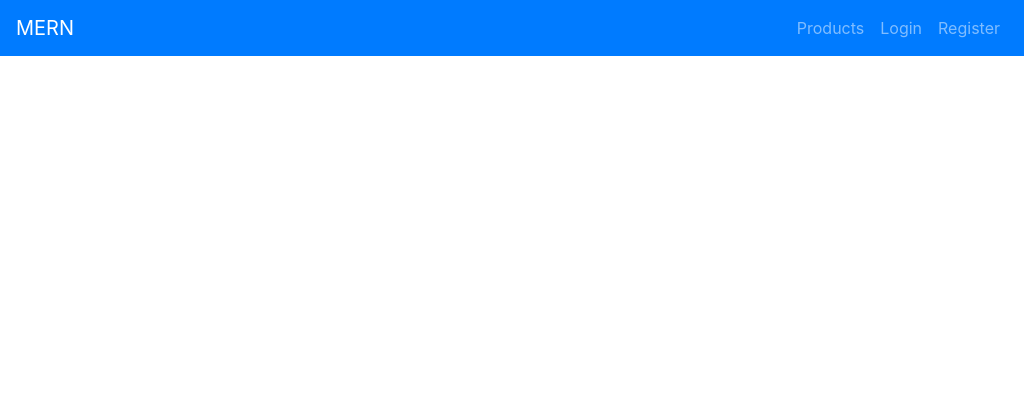
Test: A non registered user interacting with the site › redirects the user to the login page after they register
The image size is (1024, 409).
Click the link "Register" at (969, 28), box [938,18,1000,38]
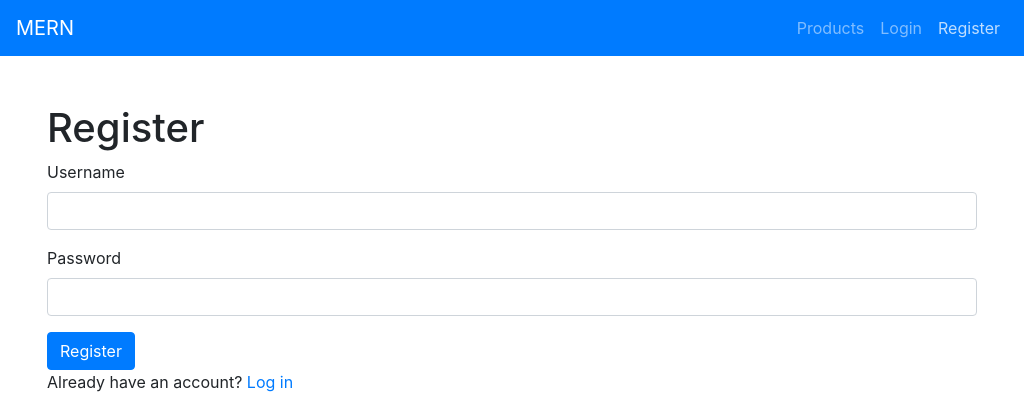
Type "cypress" into the field labelled "Username" at (512, 211), box [47,192,977,230]
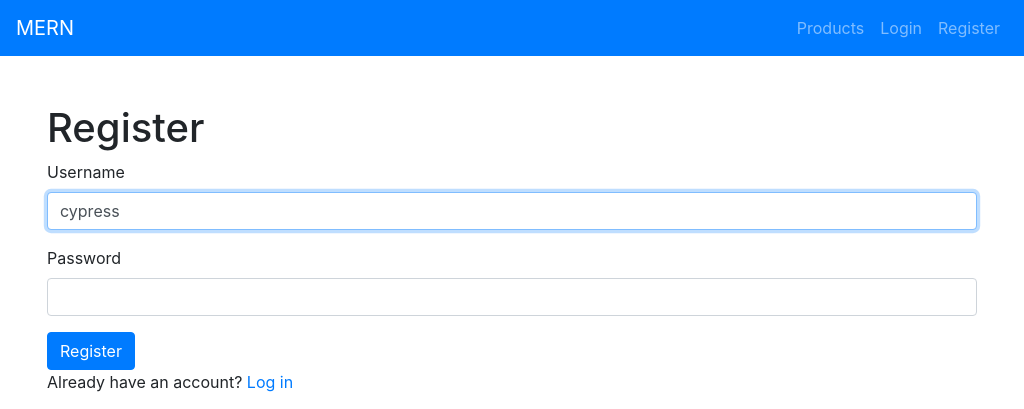
Type "cypress" into the password field labelled "Password" at (512, 297), box [47,278,977,316]
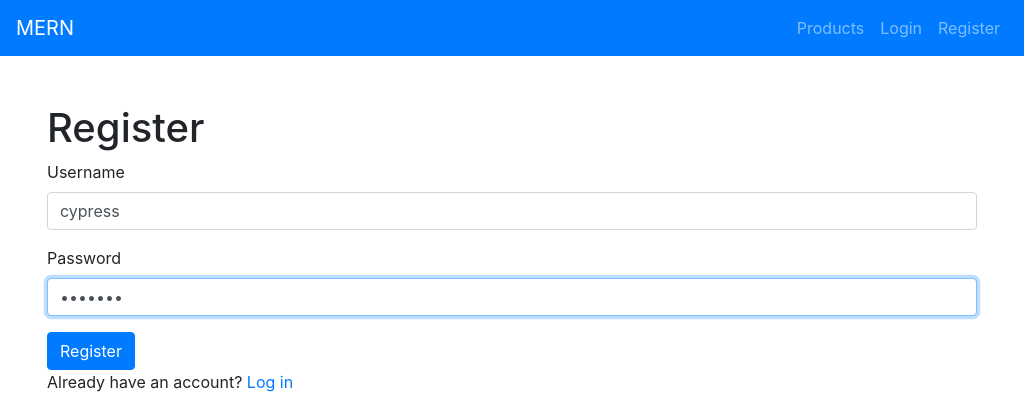
Click the button "Register" at (91, 351), box [47,332,135,370]
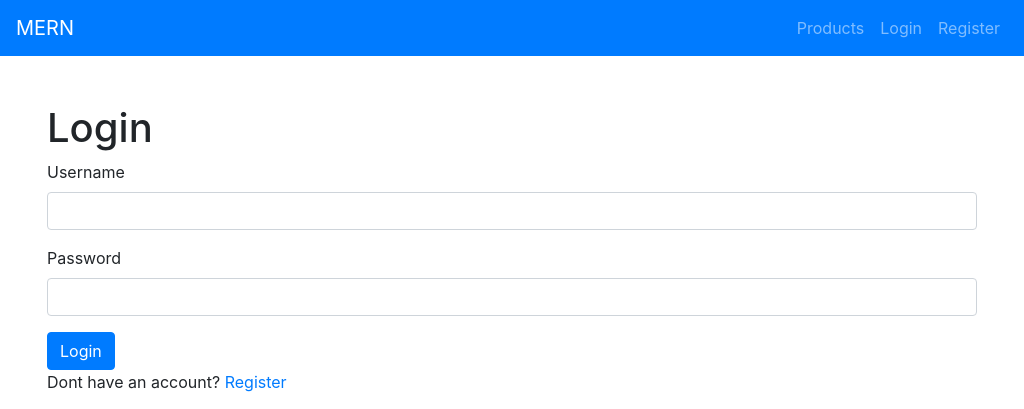
Expected: the heading "Login" is shown, [47,103,153,152]
